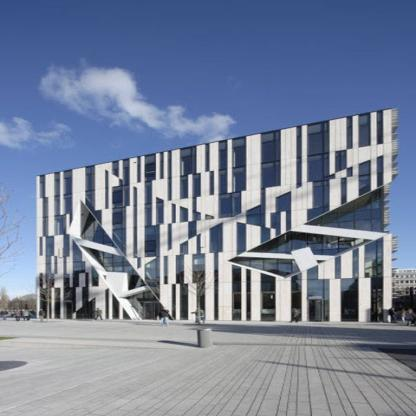Building Outline: (36, 107, 400, 324)
Door: (140, 302, 162, 320), (309, 299, 322, 322), (66, 303, 73, 319)
Facade: (36, 107, 401, 323)
Window: (237, 129, 281, 255), (307, 116, 353, 222), (54, 170, 85, 314), (180, 146, 205, 320), (304, 186, 383, 233), (39, 174, 61, 319), (247, 231, 373, 256), (144, 154, 164, 300), (88, 248, 147, 291), (218, 136, 246, 218), (112, 158, 130, 258), (335, 248, 359, 322), (364, 237, 384, 322), (228, 257, 300, 277), (81, 212, 117, 248), (210, 222, 223, 320), (307, 265, 329, 322), (270, 191, 292, 237), (75, 273, 96, 319), (176, 240, 188, 320), (85, 165, 101, 225), (126, 291, 159, 315), (261, 273, 276, 321), (133, 186, 141, 269), (231, 265, 242, 320), (291, 272, 302, 321), (205, 143, 214, 195), (359, 159, 371, 196), (167, 203, 176, 251), (359, 113, 371, 148), (296, 126, 302, 189), (376, 155, 384, 188), (246, 269, 251, 321), (167, 150, 172, 200), (376, 110, 383, 145), (113, 293, 120, 319), (92, 265, 99, 287), (172, 284, 176, 320), (159, 152, 164, 179), (122, 307, 132, 320), (105, 287, 109, 319), (105, 169, 108, 209), (112, 161, 119, 178), (164, 256, 168, 284), (137, 157, 140, 183), (205, 214, 214, 220), (103, 276, 106, 280)
